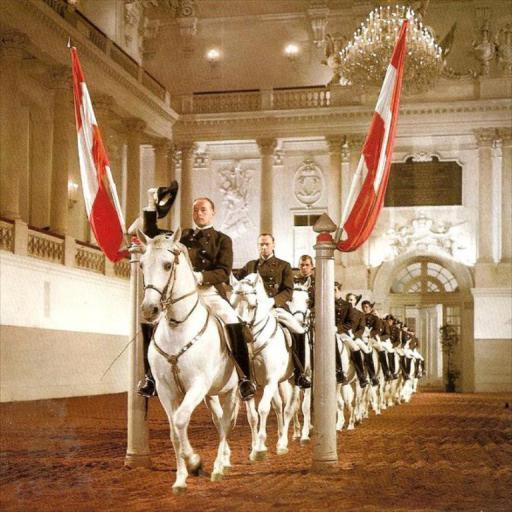horse: (138, 226, 426, 497)
